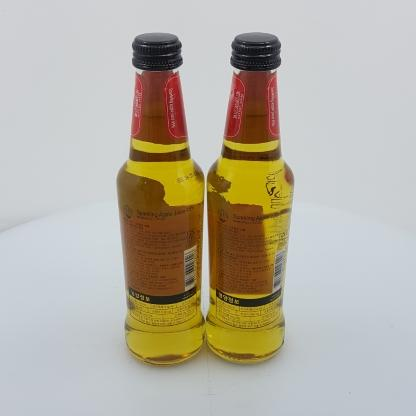----------------: (116, 32, 206, 366), (205, 54, 295, 386)
